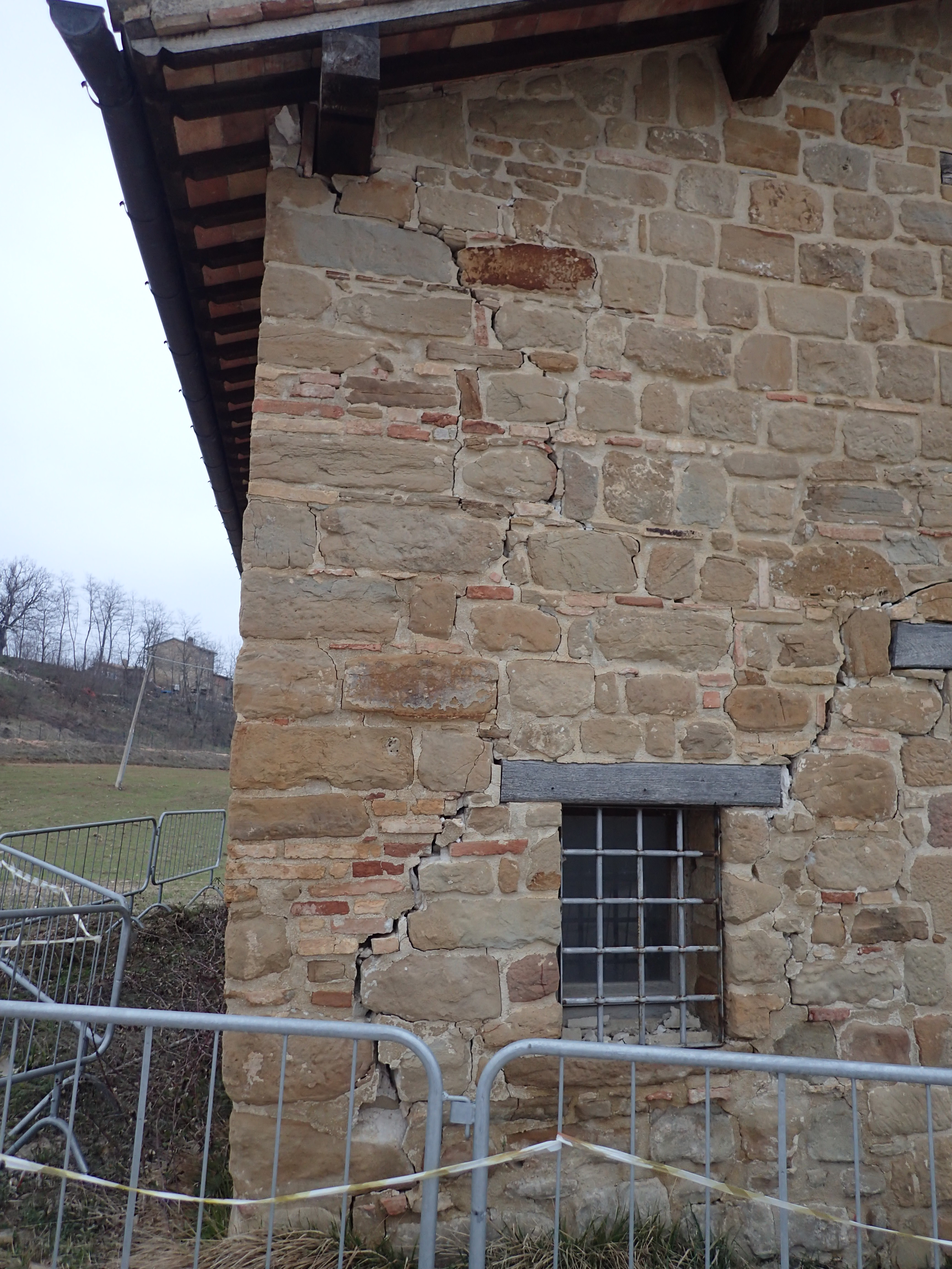Crack: (310, 173, 949, 1137)
